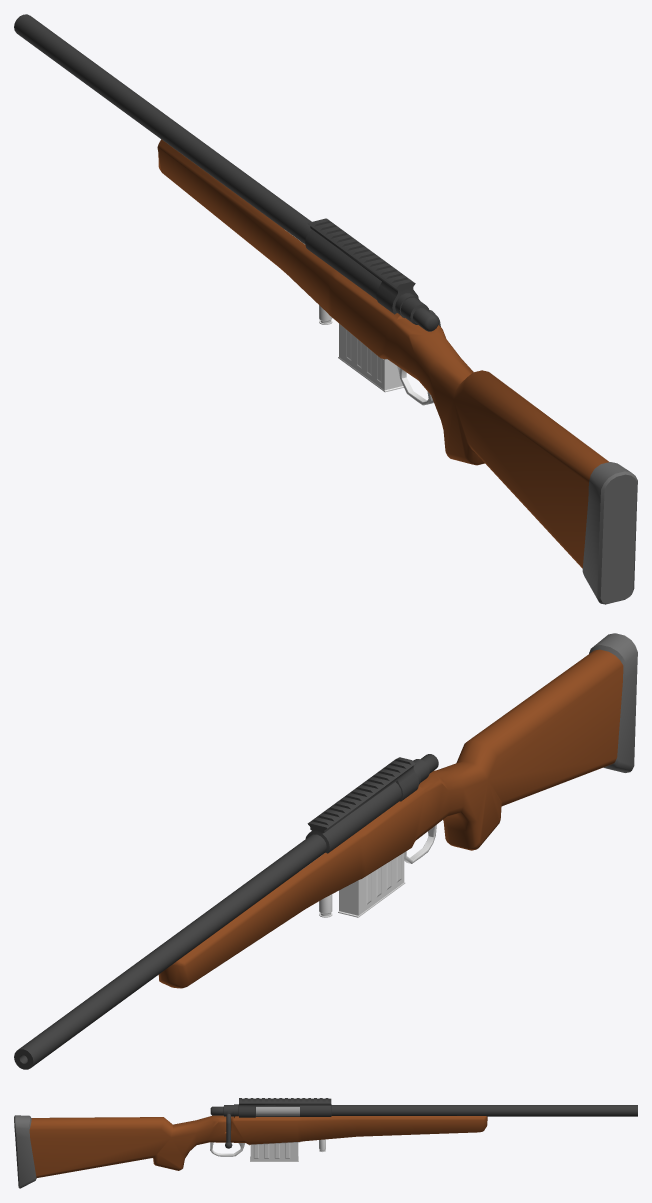
File: HuntingRifle.fbx
The picture shows the model from 3 angles, top to bottom: view 1: azimuth 30°, elevation 25°; view 2: azimuth 150°, elevation 25°; view 3: azimuth 270°, elevation 25°; orthographic projection. The views are drawn at different scales.
Parts seen in each view (by area): view 1: HuntingRifleBody, HuntingRifleBarrel, HuntingRifleMagazine, HuntingRifleBolt; view 2: HuntingRifleBody, HuntingRifleBarrel, HuntingRifleMagazine; view 3: HuntingRifleBody, HuntingRifleBarrel, HuntingRifleMagazine, HuntingRifleBolt.
Part boxes in pixels (left/top/right/bottom): HuntingRifleBody: left=157, top=139, right=637, bottom=604; HuntingRifleBarrel: left=14, top=14, right=419, bottom=317; HuntingRifleMagazine: left=338, top=323, right=403, bottom=392; HuntingRifleBolt: left=400, top=297, right=440, bottom=331; HuntingRifleBody: left=158, top=633, right=637, bottom=988; HuntingRifleBarrel: left=14, top=757, right=420, bottom=1069; HuntingRifleMagazine: left=338, top=853, right=405, bottom=917; HuntingRifleBody: left=14, top=1115, right=487, bottom=1188; HuntingRifleBarrel: left=234, top=1098, right=637, bottom=1117; HuntingRifleMagazine: left=250, top=1142, right=298, bottom=1161; HuntingRifleBolt: left=210, top=1105, right=299, bottom=1148.
Size of the model in its own units: 5.21 by 16.27 by 106.
